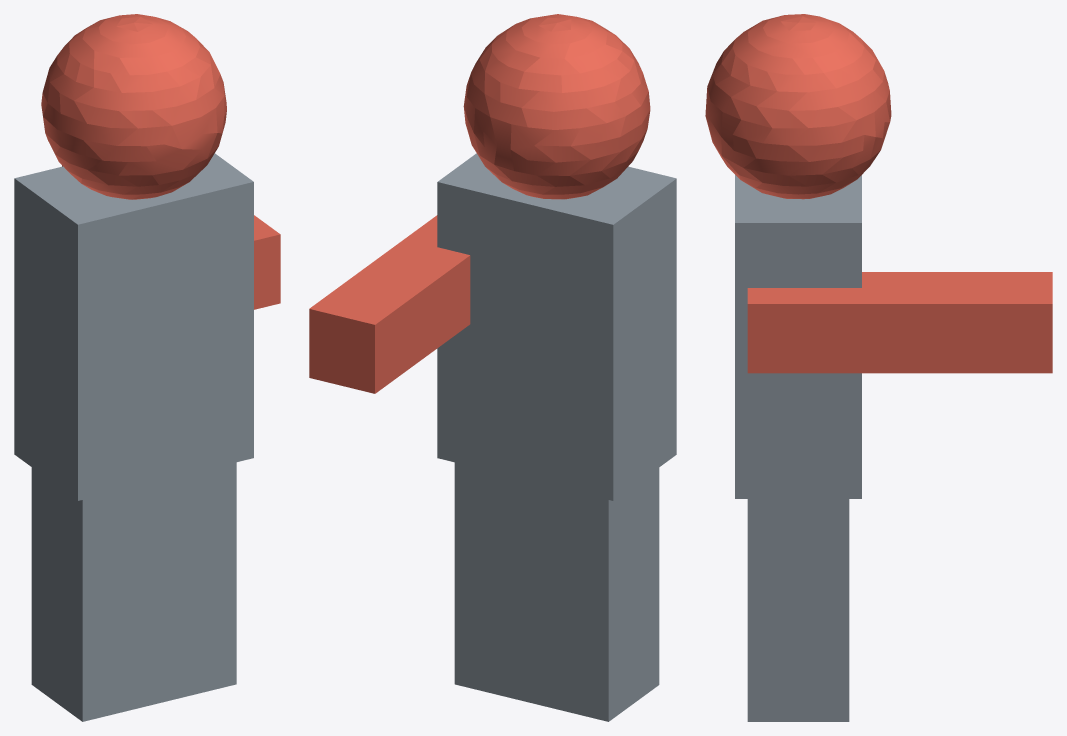
Rendered from SU_RubezhRifleman_LOD1.glb.
3 views of the same model, side by side, from view 1: azimuth 30°, elevation 25°; view 2: azimuth 150°, elevation 25°; view 3: azimuth 270°, elevation 25° (orthographic).
Parts seen in each view (by area): view 1: Head; view 2: Head; view 3: Head.
Part boxes in pixels (x1,y1,x2,y2): Head: (14, 14, 280, 721); Head: (309, 14, 676, 721); Head: (705, 14, 1052, 721).
Bounding box in the file's own units: 57 × 172 × 81.99.
